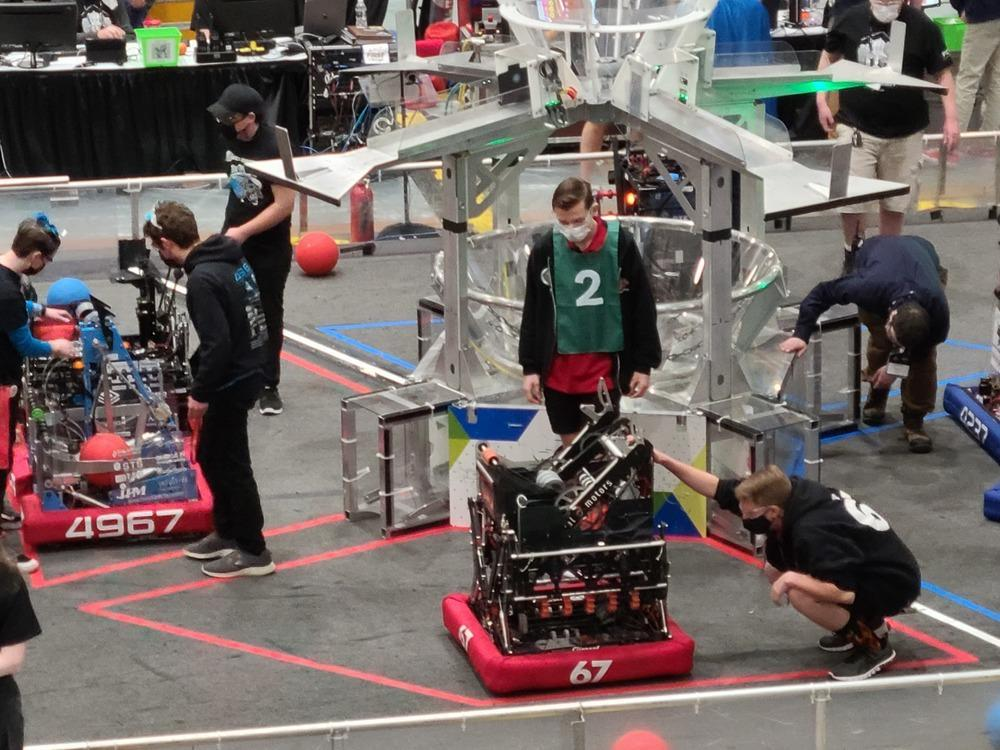robot: (438, 371, 692, 699), (0, 226, 209, 487), (16, 293, 226, 550), (942, 297, 1000, 478), (986, 476, 1000, 534)
